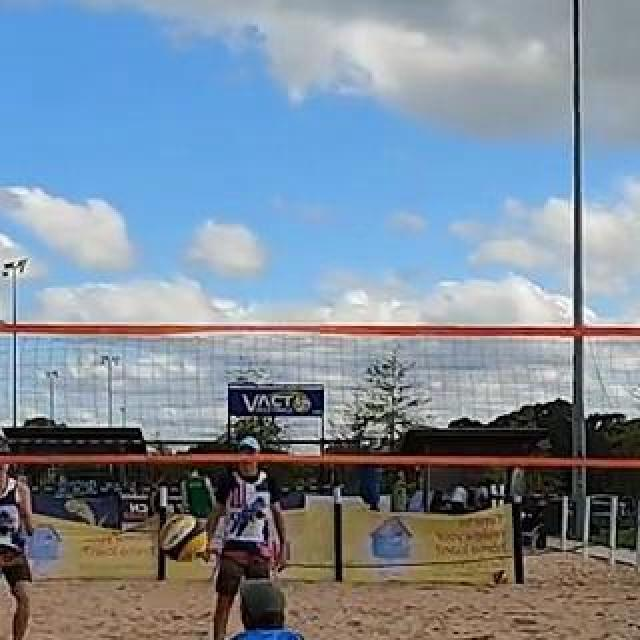volleyball: (160, 513, 208, 563), (492, 568, 512, 586)
